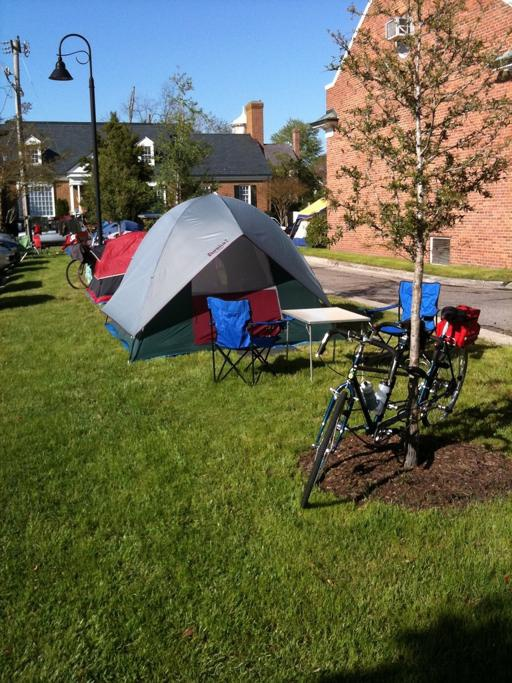non-vehicle: (291, 303, 479, 509), (60, 241, 92, 290)
